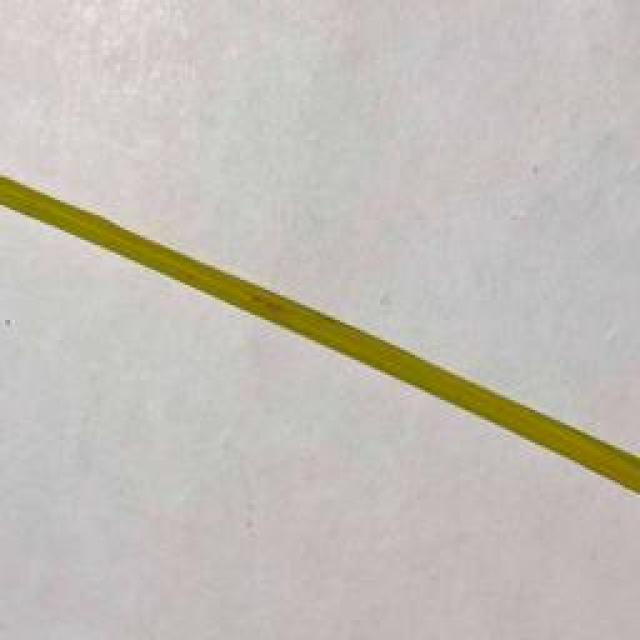Brown_Spot: (245, 286, 290, 324)
